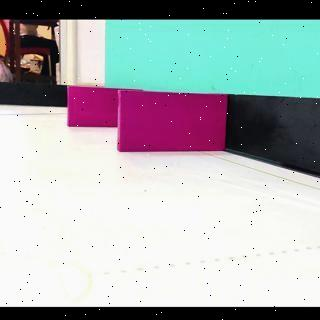xparking: (117, 95, 225, 151), (68, 89, 118, 127)
